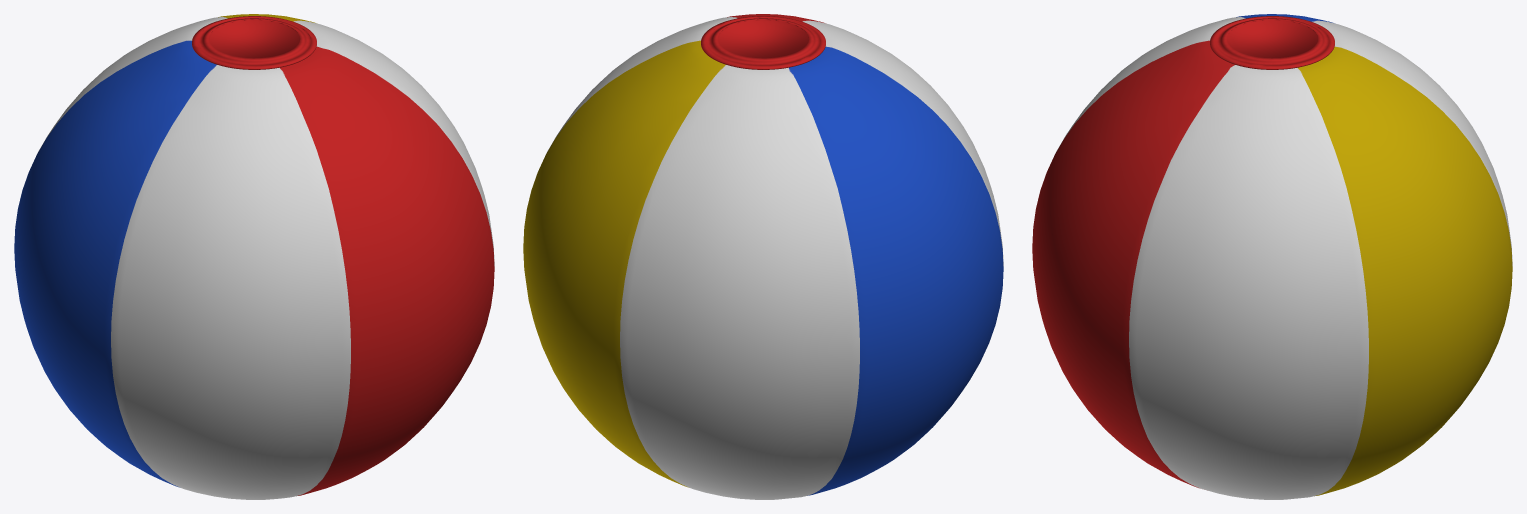
File: ball.fbx
3 renders of one model, left to right at view 1: azimuth 30°, elevation 25°; view 2: azimuth 150°, elevation 25°; view 3: azimuth 270°, elevation 25°, orthographic.
Parts seen in each view (by area): view 1: beach_ball; view 2: beach_ball; view 3: beach_ball.
Part boxes in pixels (<box>): beach_ball: <box>14,14,494,499</box>; beach_ball: <box>523,14,1003,499</box>; beach_ball: <box>1032,14,1512,499</box>.
Size of the model in its own units: 192 by 197 by 194.
1 material, 1 textured.
